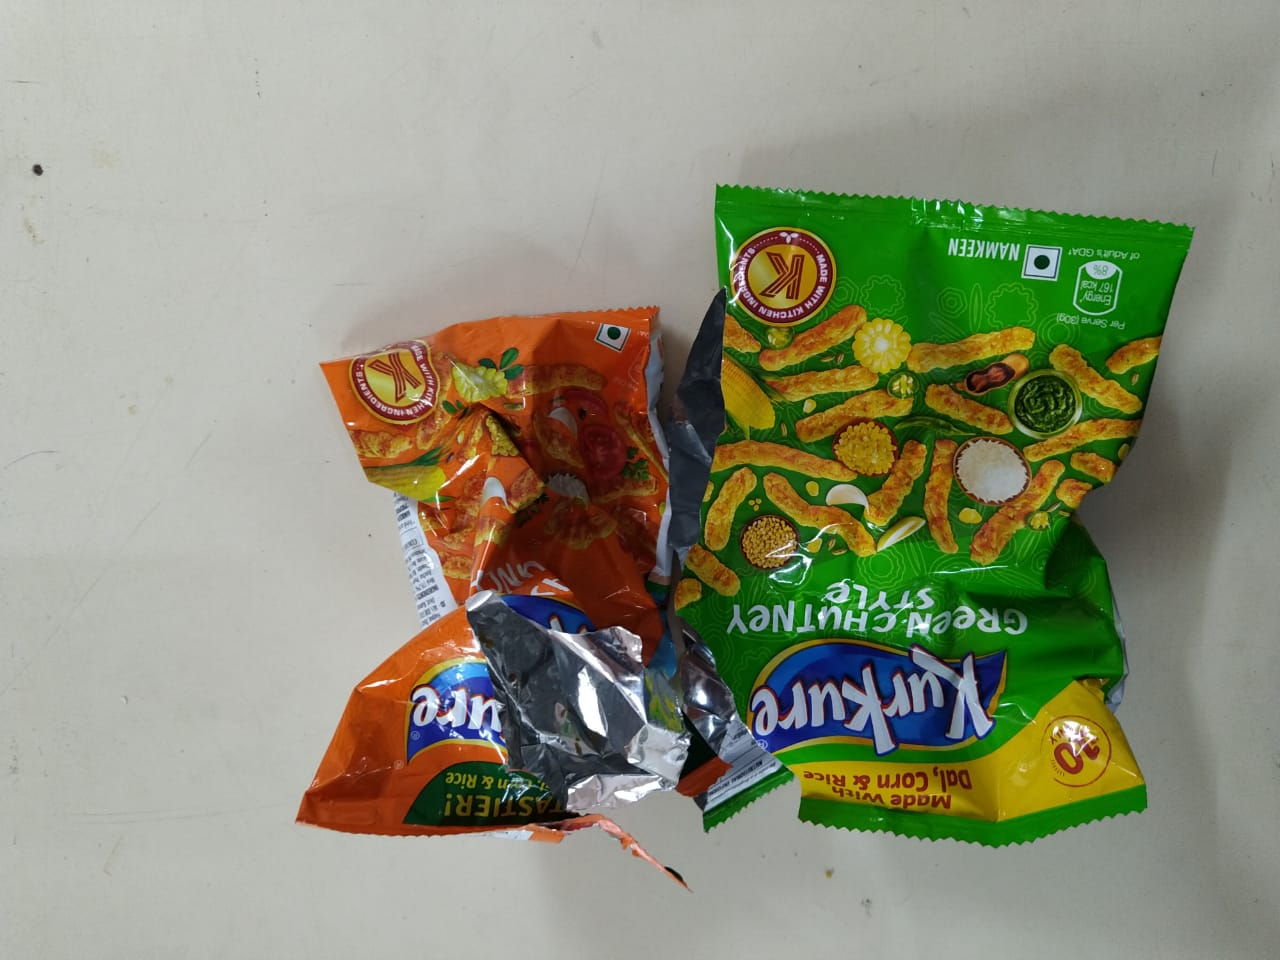kurkure: (401, 591, 671, 771), (737, 605, 1045, 761), (689, 657, 1037, 745), (385, 633, 665, 735)
plastic: (685, 159, 1161, 825), (311, 275, 713, 829)
wrapper: (689, 203, 1155, 817), (363, 333, 801, 807)
